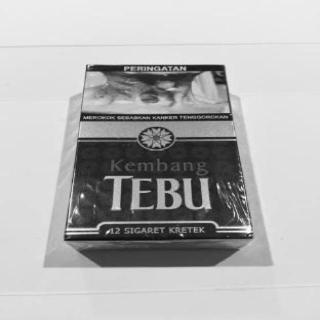objects: (64, 64, 254, 250)
